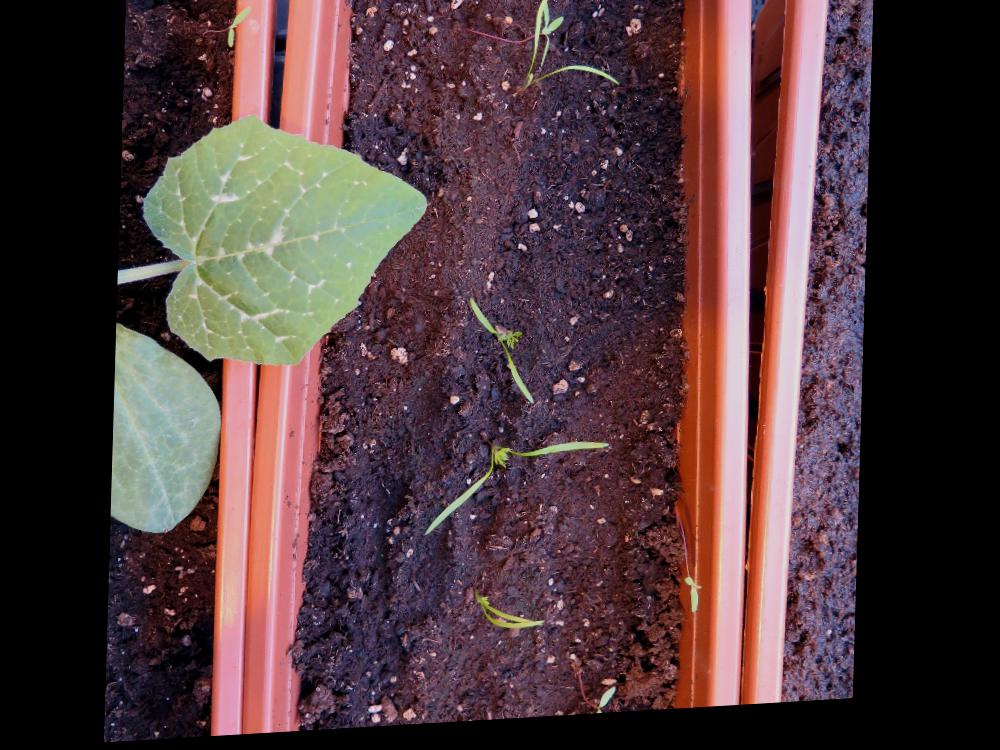crop: (426, 444, 615, 540), (468, 297, 541, 414), (476, 589, 552, 637)
weed: (227, 6, 256, 50), (686, 580, 710, 621), (599, 691, 624, 720)
